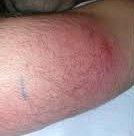Spider: (44, 30, 119, 94)
